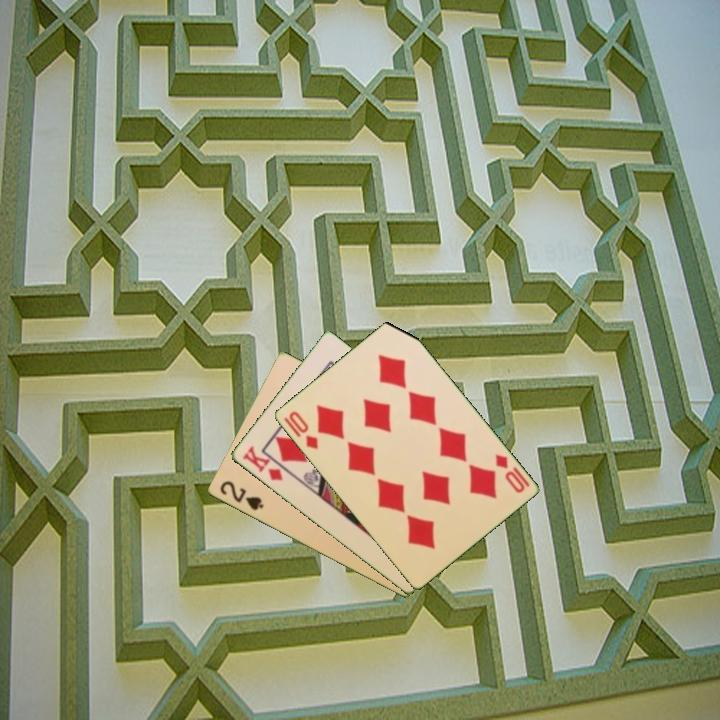10d: (491, 450, 533, 496), (280, 408, 321, 452)
2s: (216, 477, 266, 513)
Kd: (239, 442, 285, 484)
